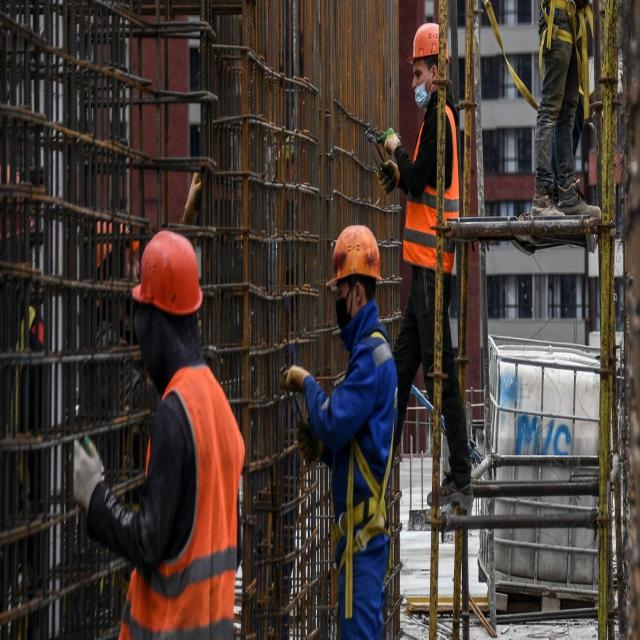Helmet: (132, 230, 204, 331), (328, 225, 383, 300), (409, 24, 442, 76)
Jacket: (154, 367, 233, 639), (408, 82, 459, 264)
NoJacket: (340, 307, 392, 566)
